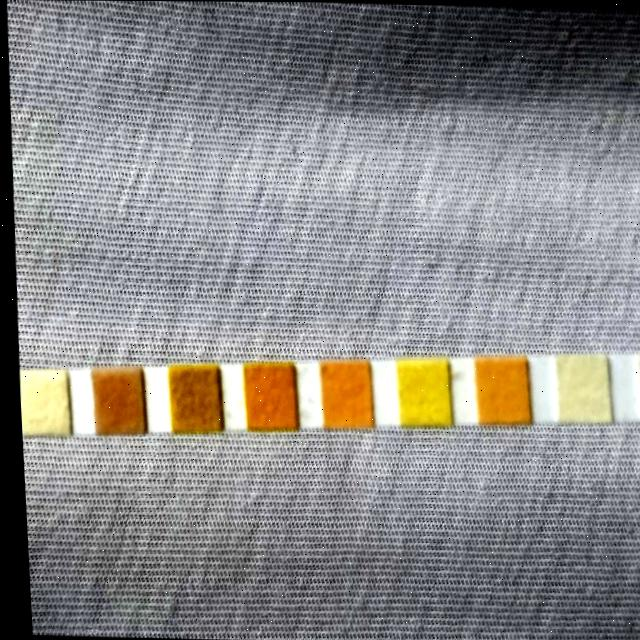Bilirubin: (15, 368, 65, 436)
Blood: (239, 362, 290, 431)
Ketone: (88, 367, 140, 435)
Leukocytes: (636, 354, 640, 421)
Nitrite: (552, 354, 604, 422)
Protein: (393, 360, 445, 428)
SpGravity: (163, 364, 215, 432)
Urobilinogen: (472, 355, 524, 423)
pH: (316, 359, 368, 428)
